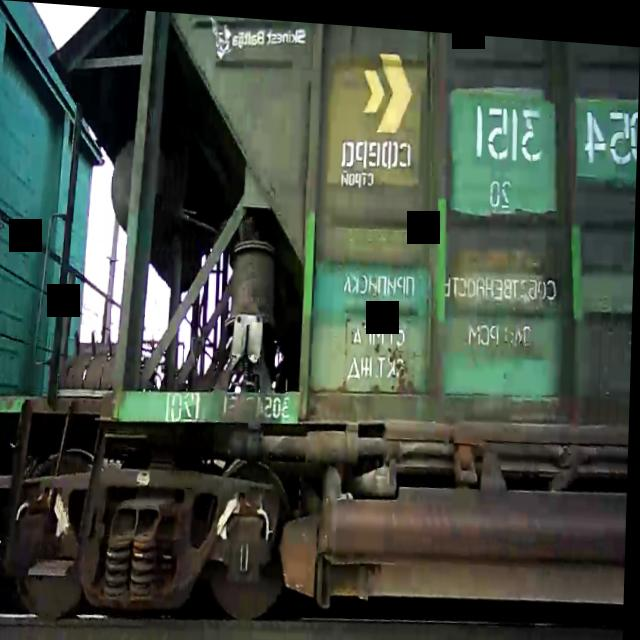boxcar: (0, 0, 114, 640)
hopper: (31, 3, 640, 640)
